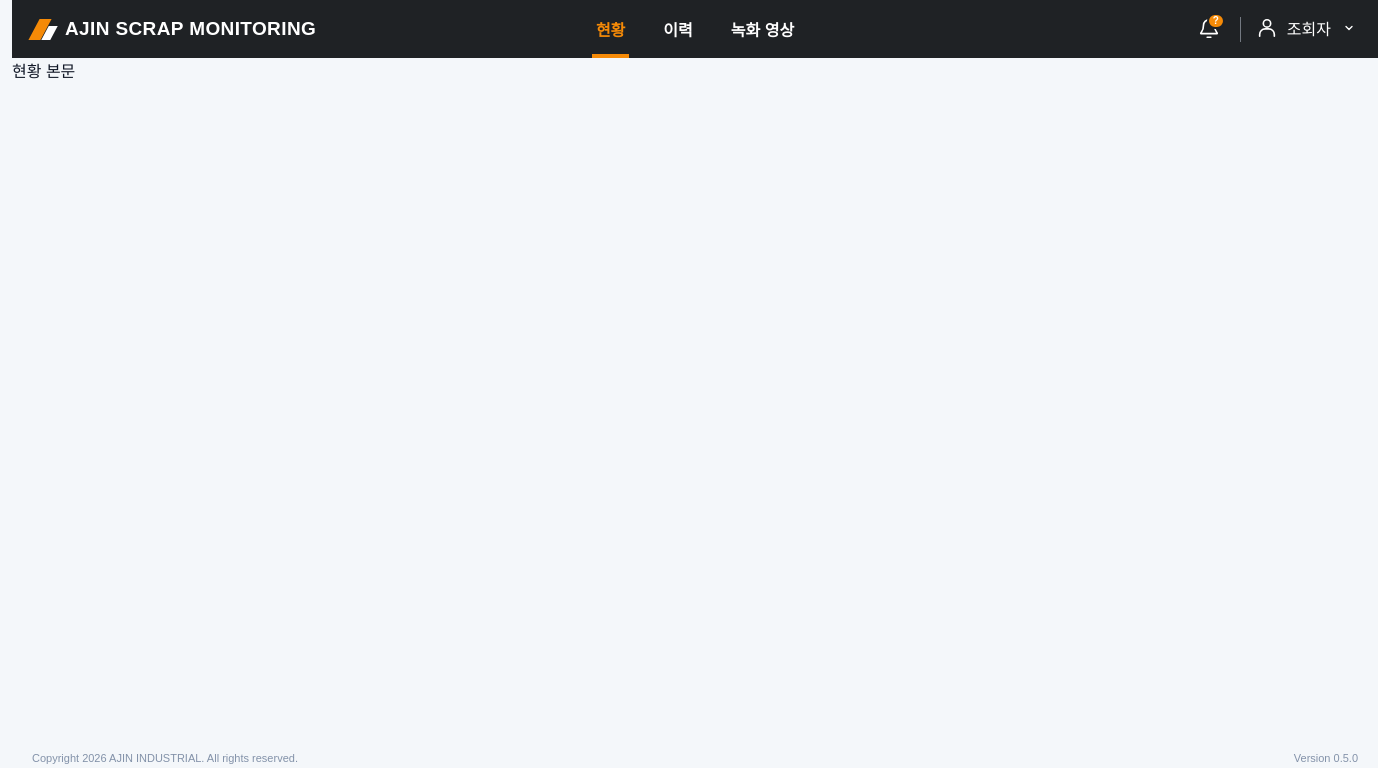
Test: 최초 알림 실패는 미확인 배지와 실패 안내만 표시하고 수동 재조회 버튼을 제공하지 않는다
Expected: the text "알림을 확인할 수 없습니다" is not shown
Click the button named "알림 조회 실패" at (1209,29), box [1193,13,1225,45]
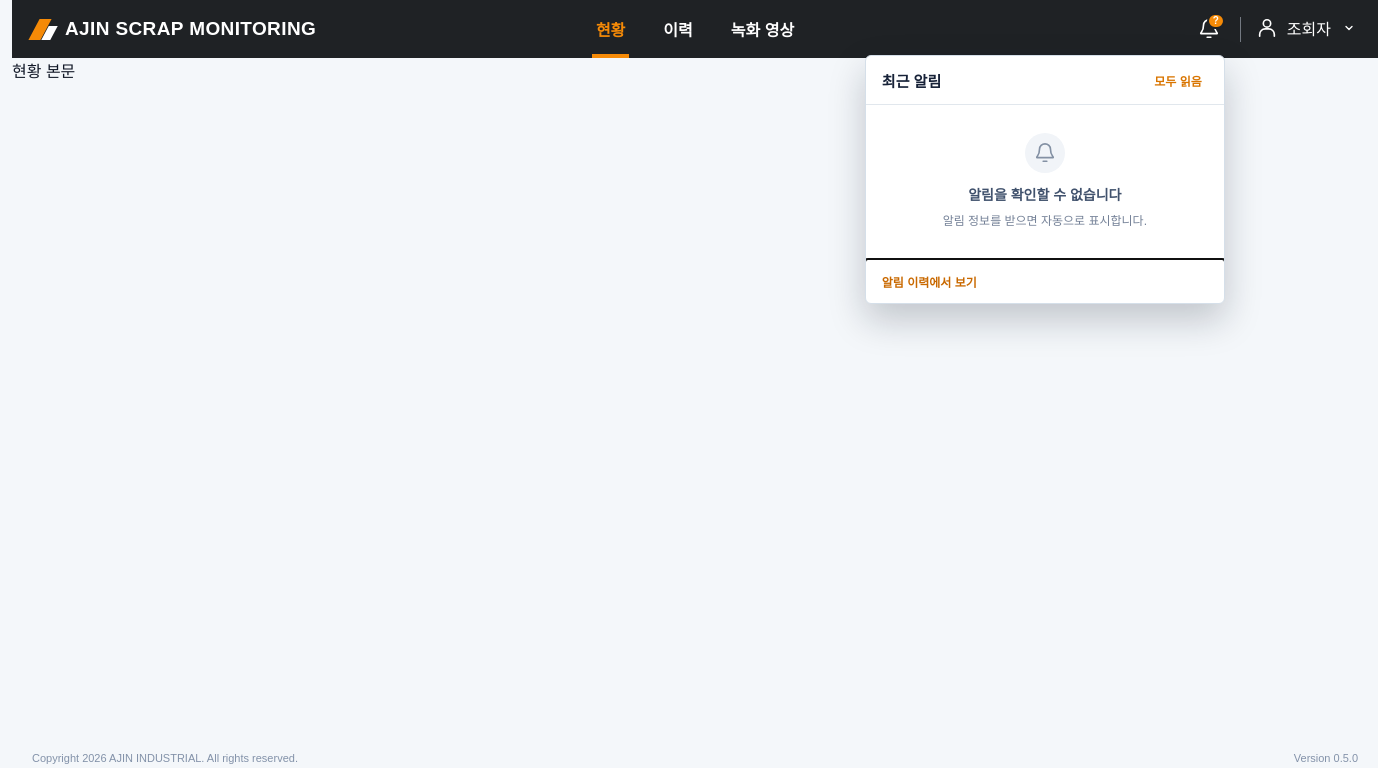
Expected: the button "모두 읽음" is disabled, [1148,70,1208,90]
Expected: the text "알림을 확인할 수 없습니다" is shown, [968,187,1122,203]
Expected: the text "알림 정보를 받으면 자동으로 표시합니다." is shown, [943,212,1147,231]
